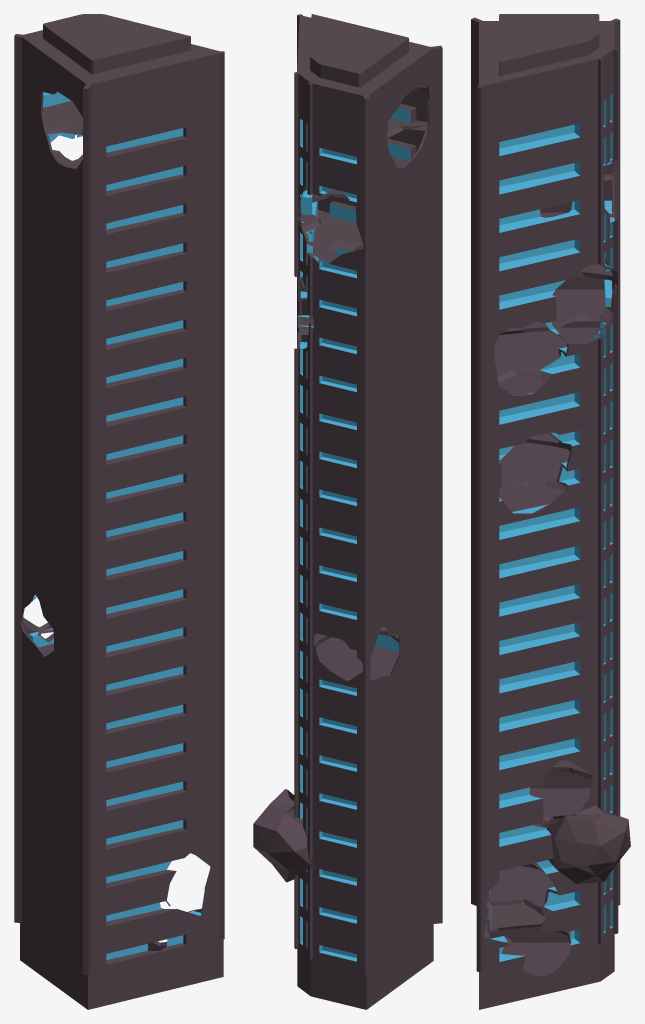
Rendered from buildings16.fbx.
The picture shows the model from 3 angles, left to right: view 1: azimuth 30°, elevation 25°; view 2: azimuth 150°, elevation 25°; view 3: azimuth 270°, elevation 25°; orthographic projection.
Visible parts, largest first — view 1: 12; view 2: 12; view 3: 12.
Boxes of the visible parts, left/top/right/bottom form: 12: left=14, top=14, right=224, bottom=1009; 12: left=253, top=14, right=442, bottom=1009; 12: left=471, top=14, right=630, bottom=1009.
Size of the model in its own units: 4302 by 26687 by 4130.
